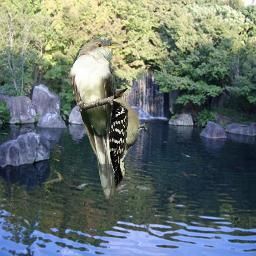Cuckoo: (70, 37, 123, 200)
Woodpecker: (92, 85, 156, 189)
